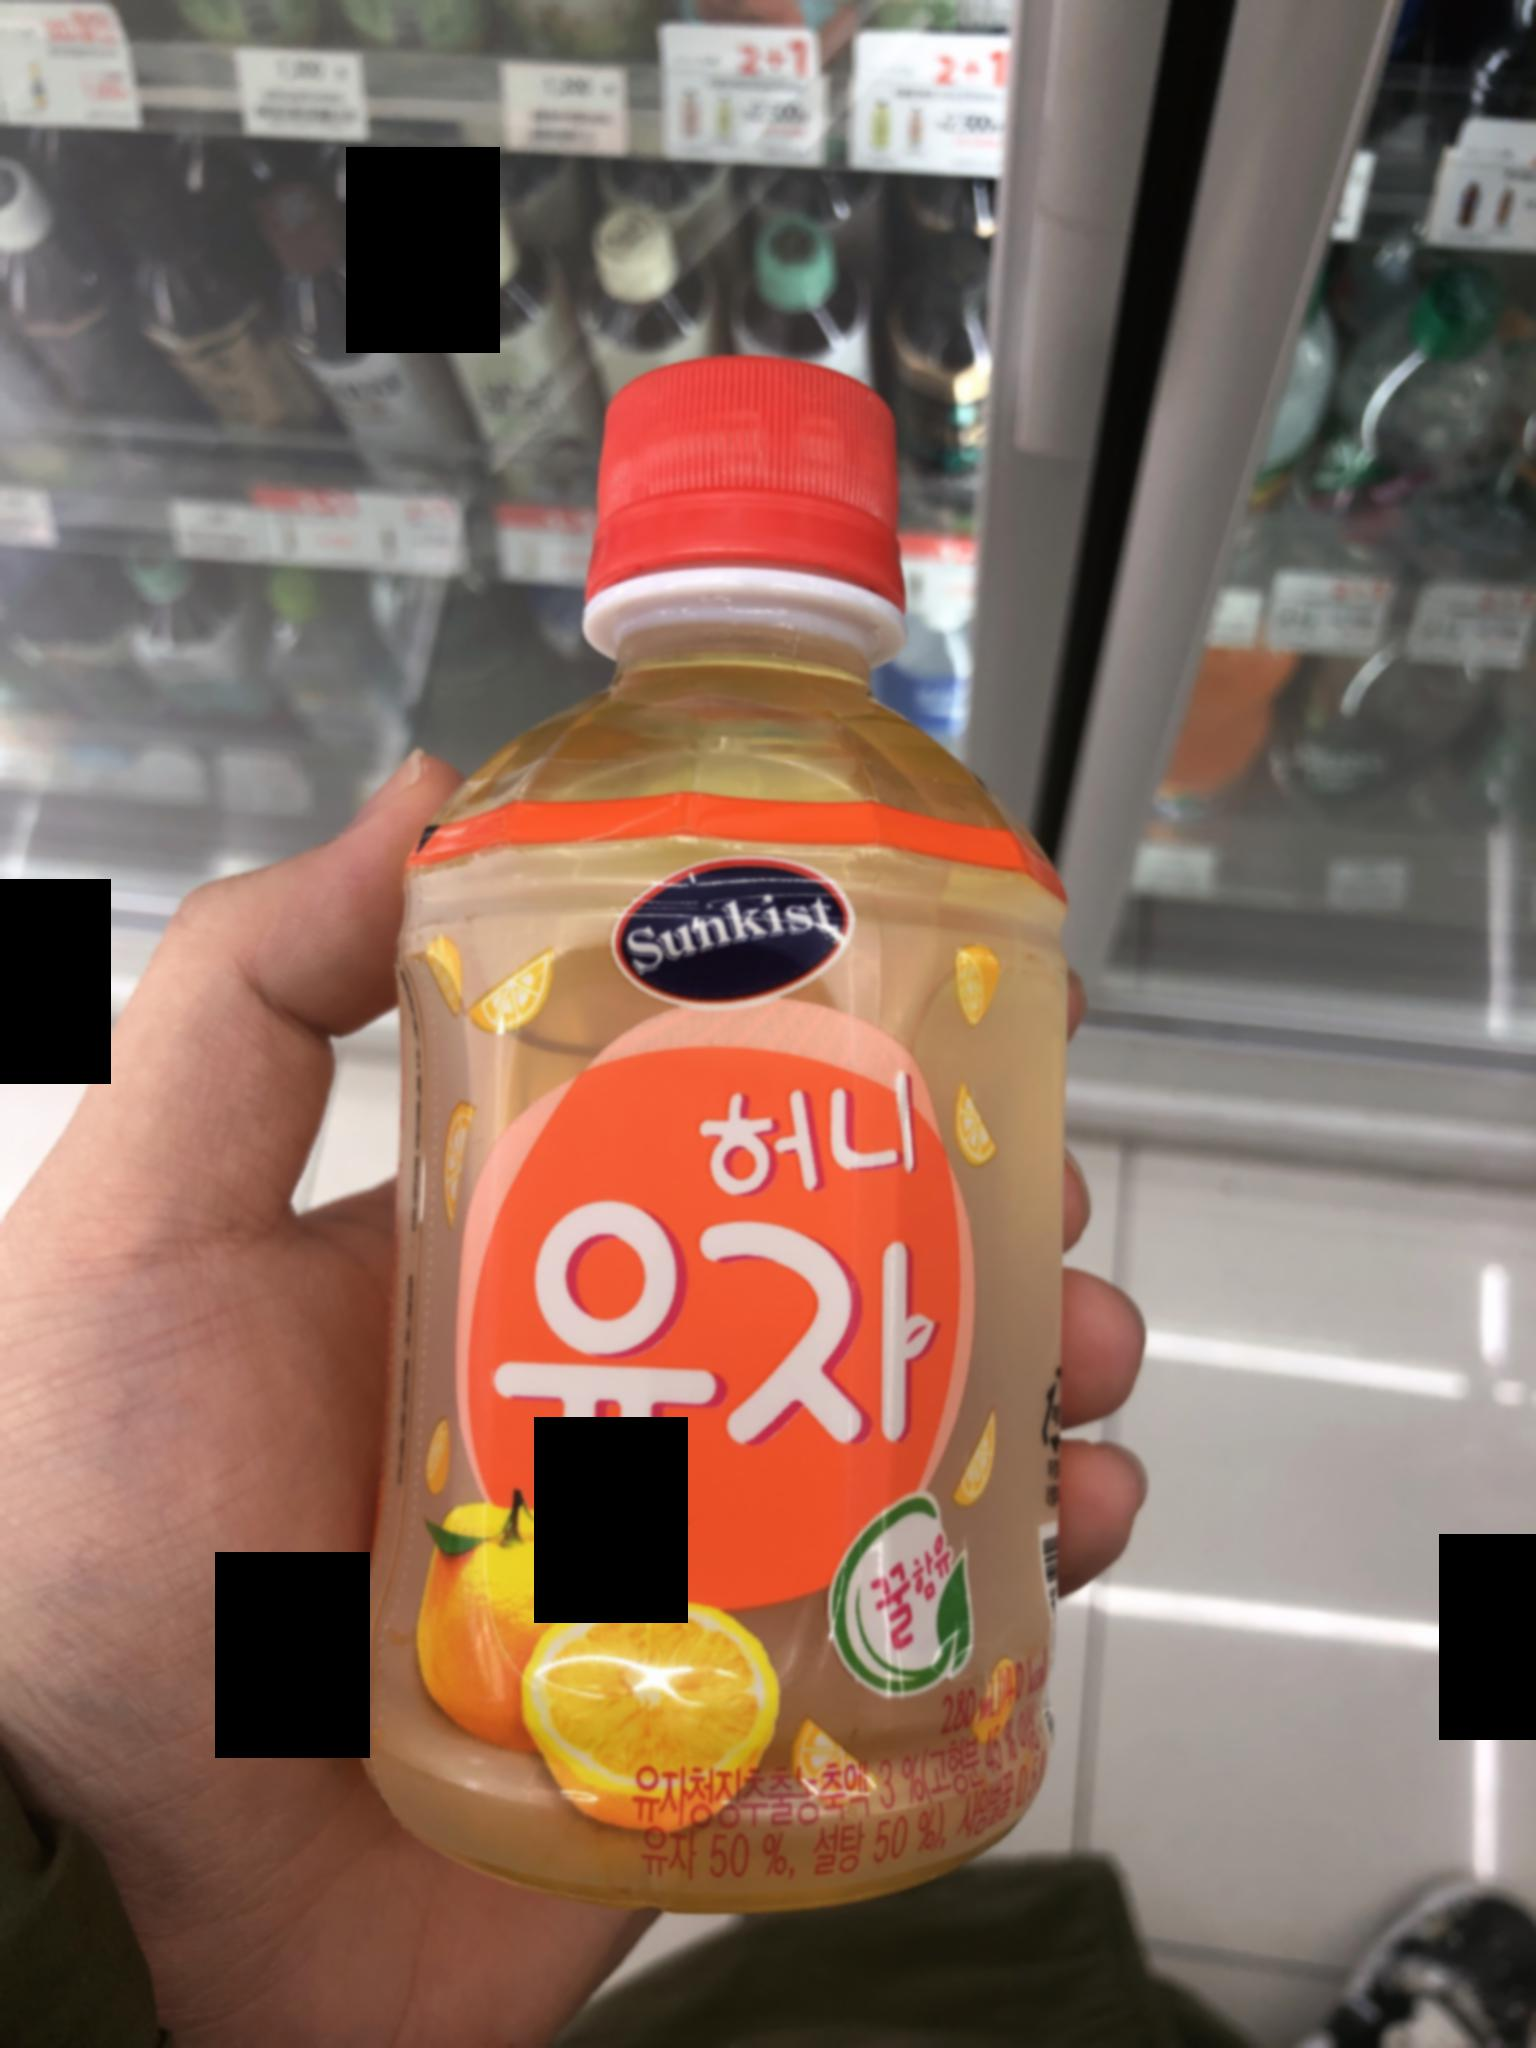honeyyuja: (244, 290, 1212, 1942)
